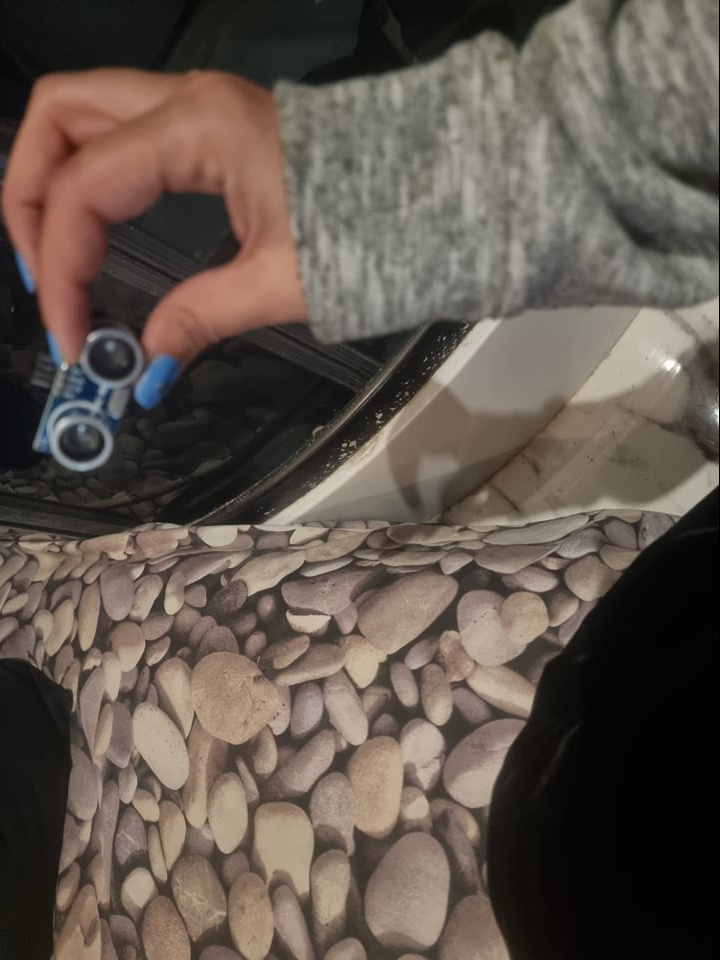SENSOR: (45, 311, 145, 478)
